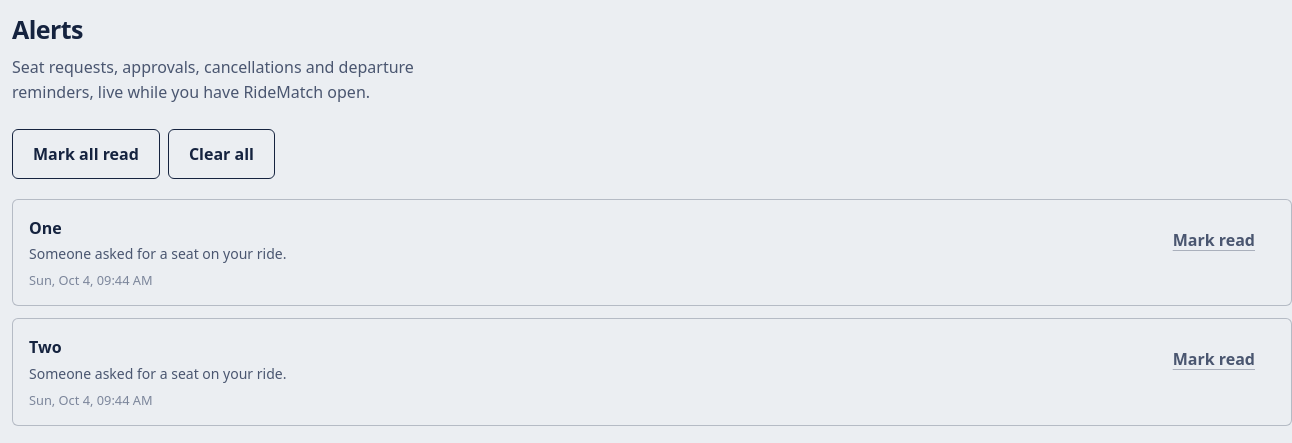
it: Alerts › marks every alert read at once
Expected: the text "One" is shown, x1=29 y1=217 x2=62 y2=239
Click the button "Mark all read": (86, 154) x1=12 y1=129 x2=160 y2=179
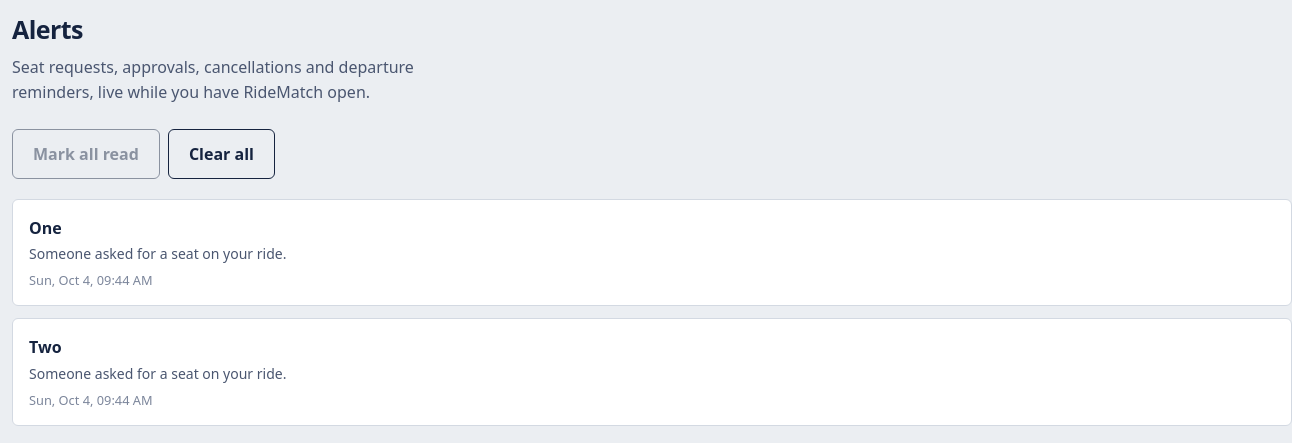
Expected: the button "Mark all read" is disabled, x1=12 y1=129 x2=160 y2=179
Expected: no buttons "Mark read" are shown
